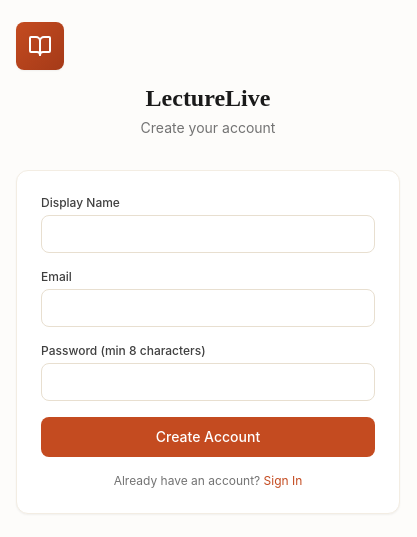
Test case: RegisterPage — 验证邮件发送失败态（#11） › 发信失败时显示告警文案，而不是「请查收验证邮件」
In the field below "Display Name": (208, 234) [41,215,375,253], type "张三"
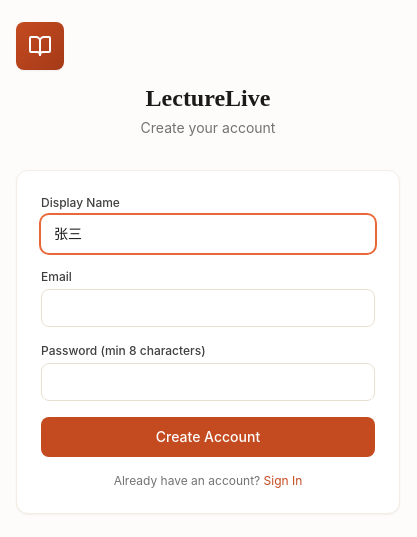
In the field below "Email": (208, 308) [41,289,375,327], type "user@example.com"
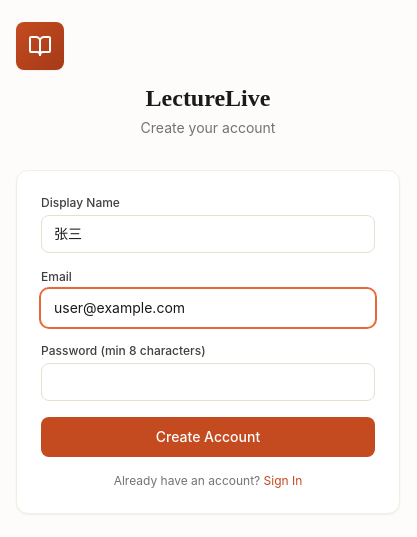
In the password field: (208, 382) [41,363,375,401], type "passw0rd"
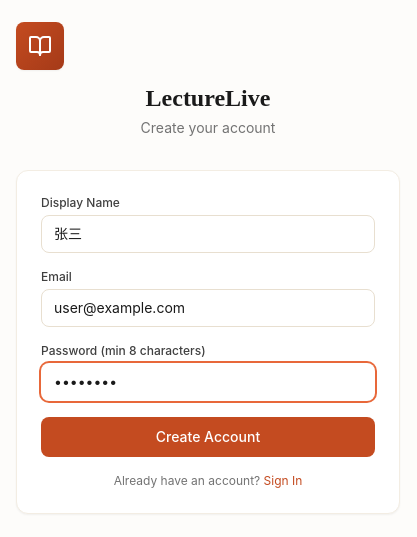
Click the button "Create Account": (208, 437) [41,417,375,457]
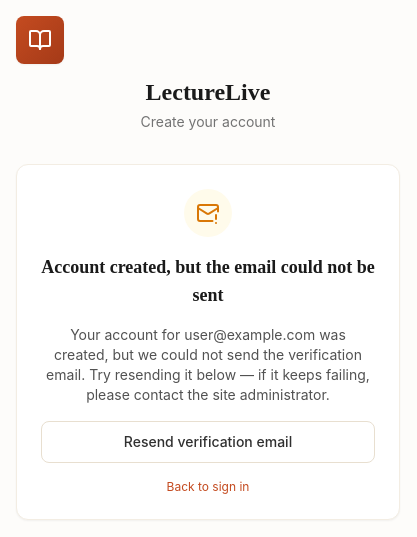
Expected: the heading "Account created, but the email could not be sent" is shown, [41,253,375,309]
Expected: the button "Resend verification email" is shown, [41,421,375,463]
